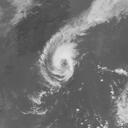cyclone: (39, 31, 78, 88)
